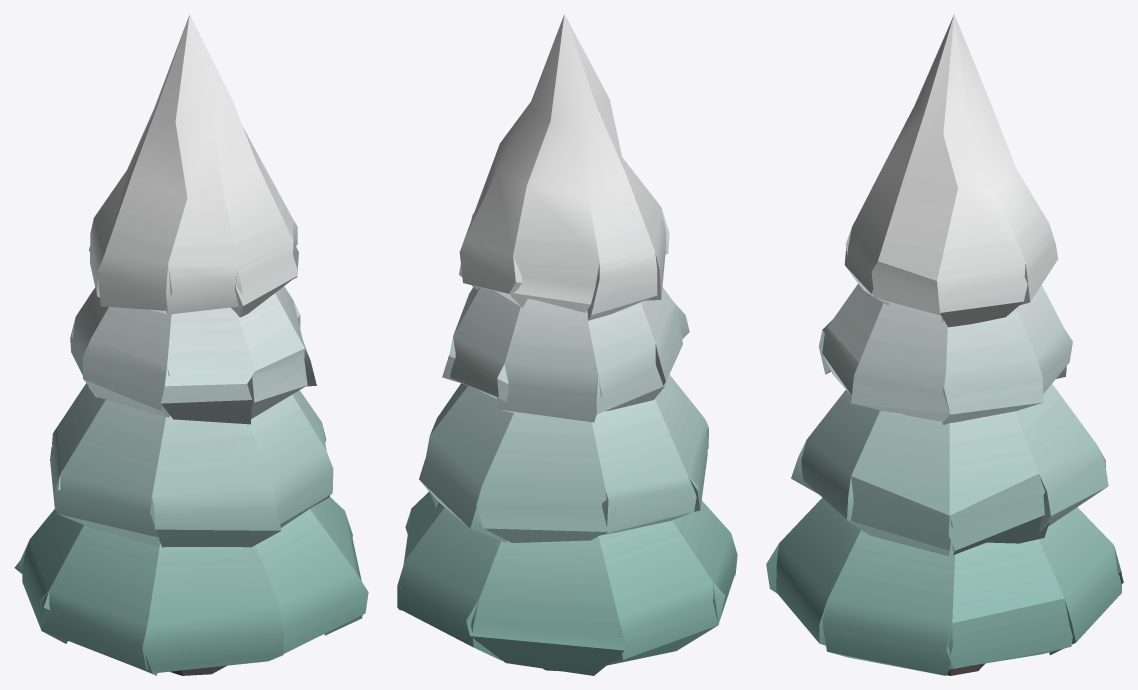
The model's file is woodland_spruce_5.glb.
The picture shows the model from 3 angles, left to right: view 1: azimuth 30°, elevation 25°; view 2: azimuth 150°, elevation 25°; view 3: azimuth 270°, elevation 25°; orthographic projection.
Visible parts, largest first — view 1: Cone.002; view 2: Cone.002; view 3: Cone.002.
Boxes of the visible parts, x1,y1,x2,y2 form: Cone.002: (14,14,368,675); Cone.002: (397,14,737,675); Cone.002: (766,14,1123,675).
Bounding box in the file's own units: 4.35 × 8.54 × 4.29.
Materials: 1 (1 with a texture image).
